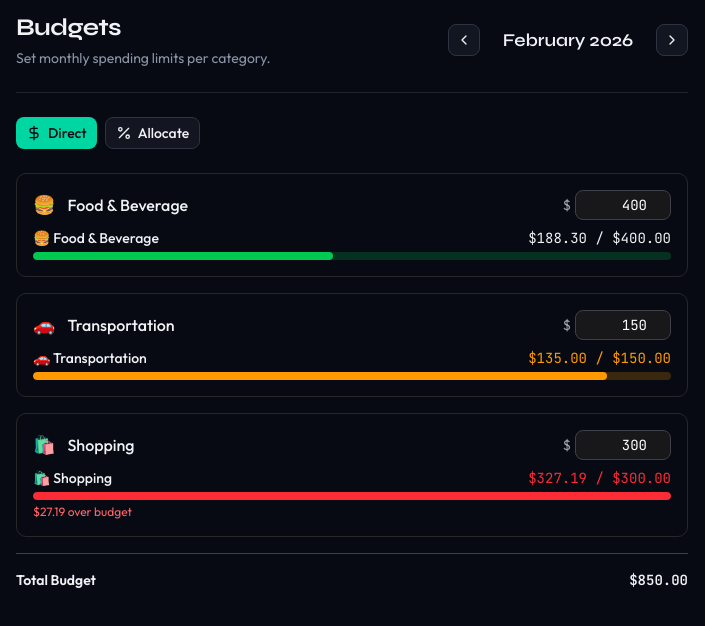
Test: BudgetsPage › toggles between Mode A and Mode B
# Click the allocation toggle
What coordinates should you click on to do the following:
click the button with aria-label "% allocate"
I would click on:
 (152, 133)
Its box is x1=105 y1=117 x2=200 y2=149.
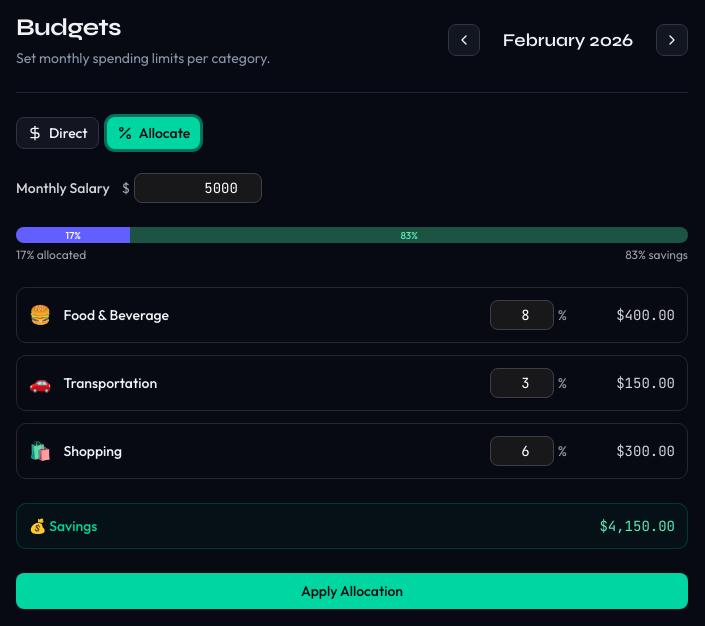
Expected: the number field with test id "salary-input" is shown, x1=134 y1=173 x2=262 y2=203
